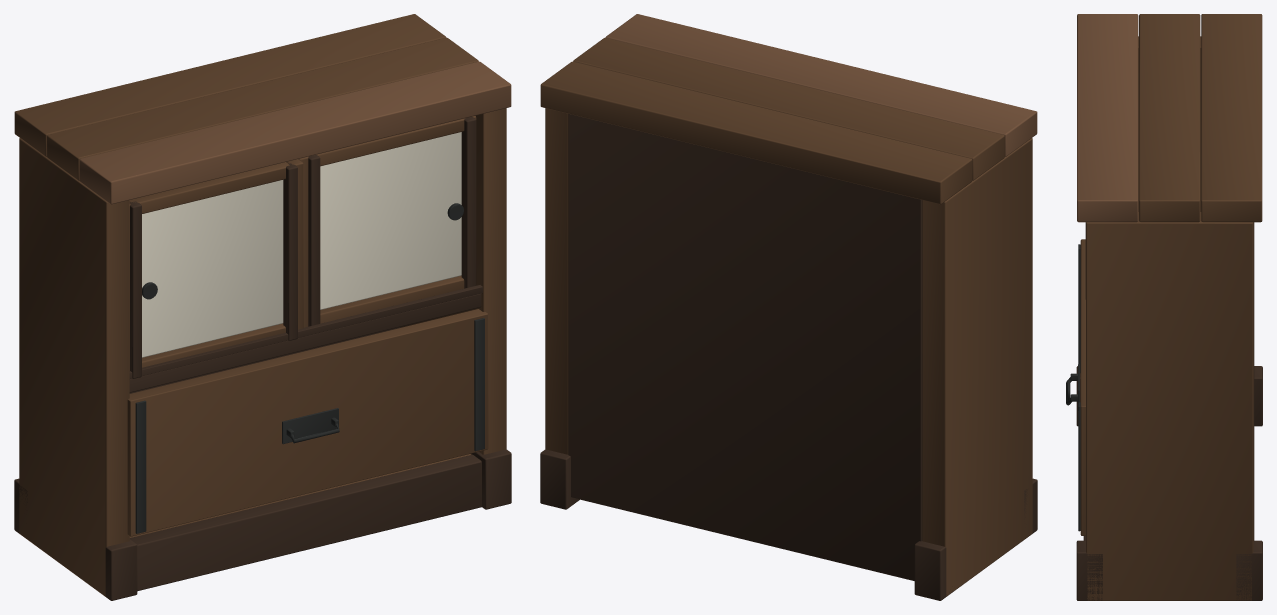
File: kominka-chadansu-900-01.glb
The picture shows the model from 3 angles, left to right: view 1: azimuth 30°, elevation 25°; view 2: azimuth 150°, elevation 25°; view 3: azimuth 270°, elevation 25°; orthographic projection. The views are drawn at different scales.
Parts seen in each view (by area): view 1: kominka-chadansu-900-01; view 2: kominka-chadansu-900-01; view 3: kominka-chadansu-900-01.
Part boxes in pixels (bbox=[...]): kominka-chadansu-900-01: bbox=[14, 14, 511, 600]; kominka-chadansu-900-01: bbox=[540, 14, 1037, 600]; kominka-chadansu-900-01: bbox=[1066, 14, 1262, 600].
Size of the model in its own units: 0.9 by 0.9 by 0.4.
